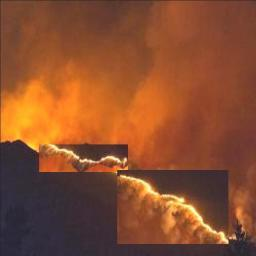Heavy smoke: (5, 5, 256, 152)
Small fire: (123, 172, 228, 238), (40, 145, 119, 169)
